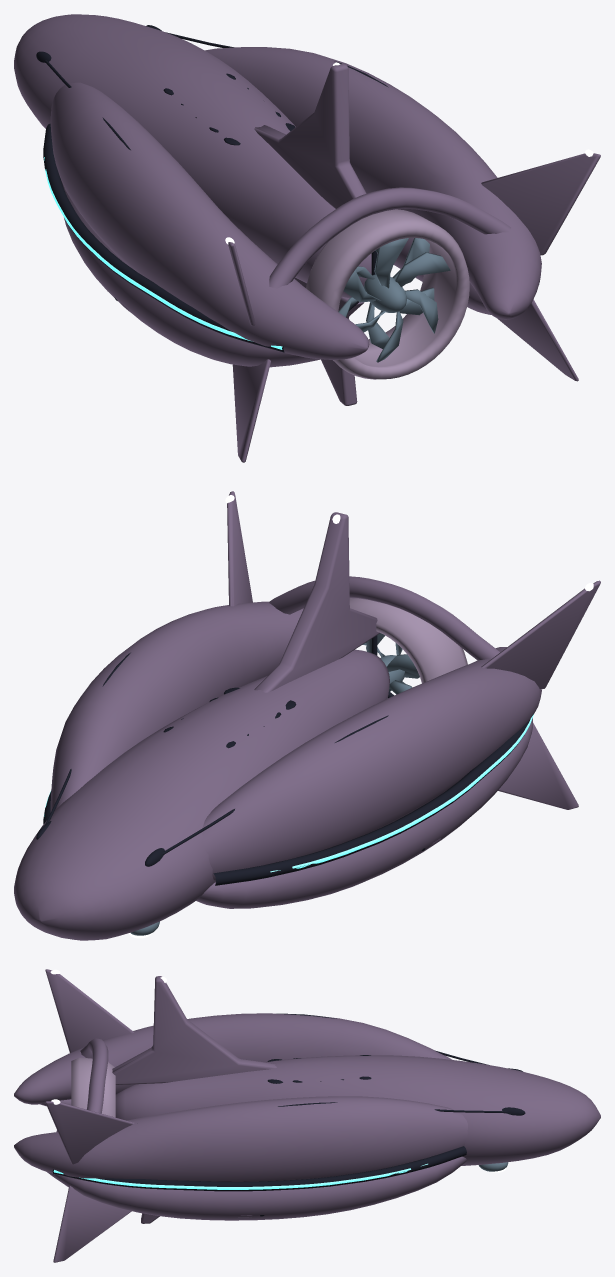
The model's file is ryuou.glb.
3 renders of one model, top to bottom at view 1: azimuth 30°, elevation 25°; view 2: azimuth 150°, elevation 25°; view 3: azimuth 270°, elevation 25°, orthographic. The views are drawn at different scales.
Visible parts, largest first — view 1: Ryuou_Hull, Ryuou_Rotor_Rear_Game, Ryuou_Rotor_Front_Game; view 2: Ryuou_Hull, Ryuou_Rotor_Front_Game; view 3: Ryuou_Hull.
Boxes of the visible parts, bbox=[...] form: Ryuou_Hull: bbox=[14, 14, 600, 462]; Ryuou_Rotor_Rear_Game: bbox=[343, 238, 450, 362]; Ryuou_Rotor_Front_Game: bbox=[338, 238, 434, 348]; Ryuou_Hull: bbox=[14, 491, 600, 940]; Ryuou_Rotor_Front_Game: bbox=[366, 633, 419, 694]; Ryuou_Hull: bbox=[14, 969, 600, 1262].
Bounding box in the file's own units: 6.24 × 5.35 × 11.6.
